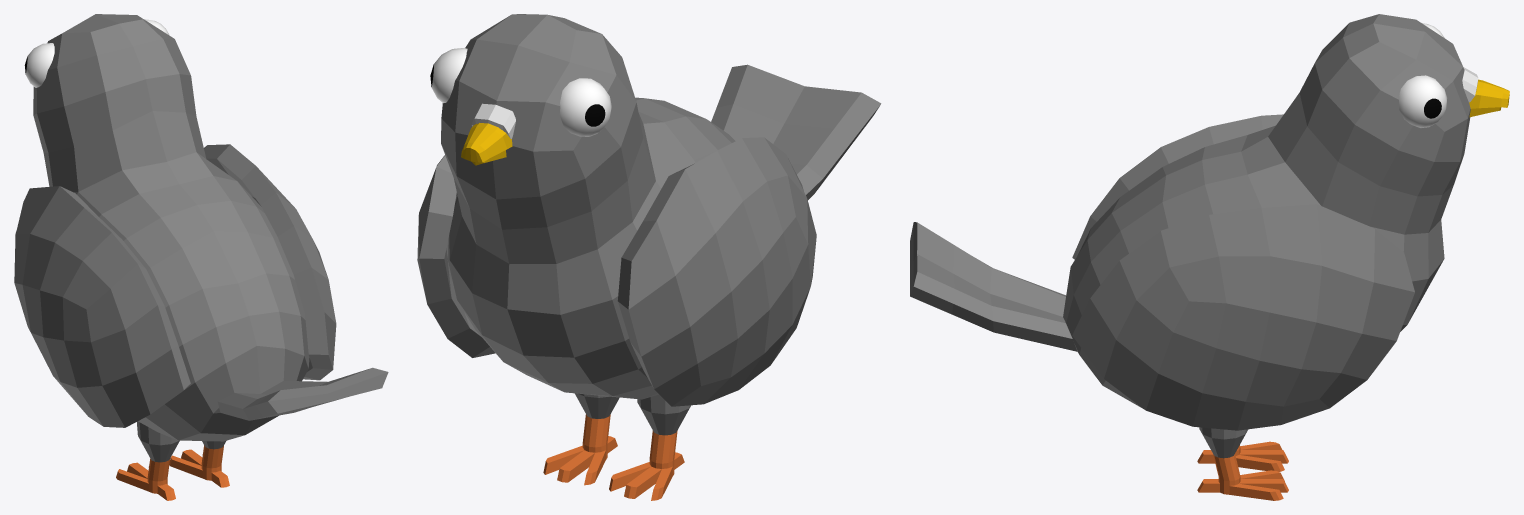
File: pigeon.fbx
3 renders of one model, left to right at view 1: azimuth 30°, elevation 25°; view 2: azimuth 150°, elevation 25°; view 3: azimuth 270°, elevation 25°, orthographic. The views are drawn at different scales.
Visible parts, largest first — view 1: Body, Wing.L, Wing.R, Tail, Leg.L, Leg.R, Eye.L; view 2: Body, Wing.L, Tail, Wing.R, Leg.L, Leg.R, Eye.L, Beack, Eye.R, Beack.Back; view 3: Wing.R, Body, Tail, Wing.L, Leg.R, Eye.R, Leg.L, Beack.
Part boxes in pixels (x1,y1,x2,y2): Body: (33, 14, 309, 441); Wing.L: (14, 186, 190, 427); Wing.R: (204, 144, 336, 380); Tail: (217, 367, 388, 420); Leg.L: (116, 421, 179, 500); Leg.R: (169, 440, 229, 487); Eye.L: (24, 43, 54, 87); Body: (441, 14, 735, 399); Wing.L: (617, 137, 816, 406); Tail: (711, 64, 881, 200); Wing.R: (417, 155, 495, 357); Leg.L: (609, 394, 690, 500); Leg.R: (543, 393, 619, 485); Eye.L: (559, 78, 611, 136); Beack: (461, 123, 512, 165); Eye.R: (430, 48, 467, 103); Beack.Back: (471, 103, 515, 138); Wing.R: (1072, 204, 1414, 430); Body: (1063, 14, 1470, 408); Tail: (910, 222, 1077, 351); Wing.L: (1072, 114, 1283, 259); Leg.R: (1197, 427, 1288, 500); Eye.R: (1399, 75, 1447, 127); Leg.L: (1197, 441, 1288, 471); Beack: (1469, 79, 1509, 117).
Size of the model in its own units: 66.83 by 103 by 124.
